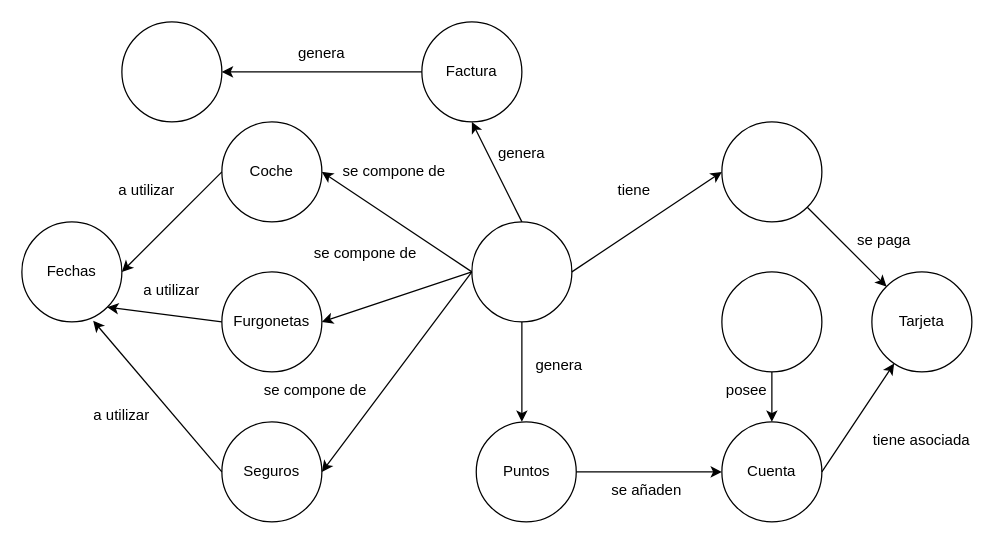
Image size: 994x544. Some labels were removed from this diagram. The centre of each missing label's shape, as x and y in pixels:
Alquiler: [521,271]
Encuesta: [171,71]
Precio: [771,171]
Usuario: [771,321]
